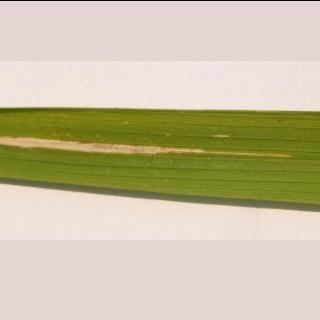Hawar-Daun: (0, 127, 286, 166)
